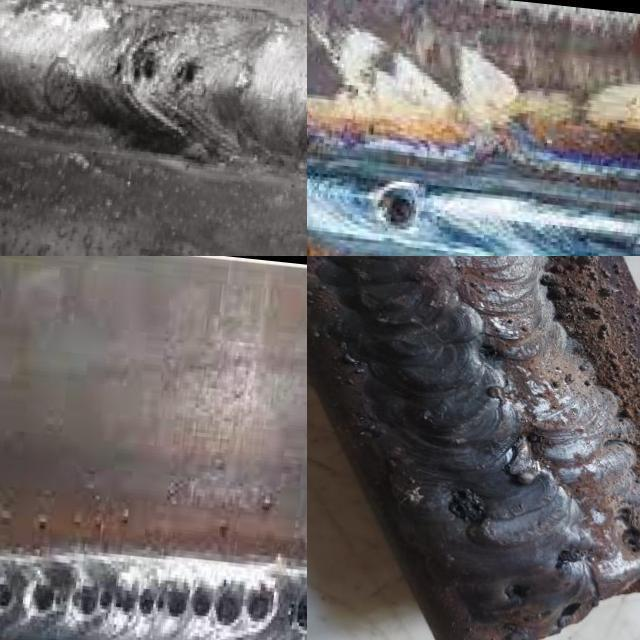defect: (65, 576, 283, 630), (105, 27, 162, 96), (371, 176, 423, 241), (169, 44, 206, 104), (446, 483, 496, 526), (23, 566, 60, 622), (497, 575, 543, 605), (552, 543, 593, 570), (0, 573, 17, 618), (479, 343, 502, 358)
